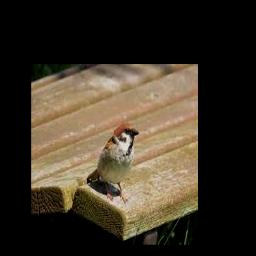Sparrow: (87, 124, 139, 202)
